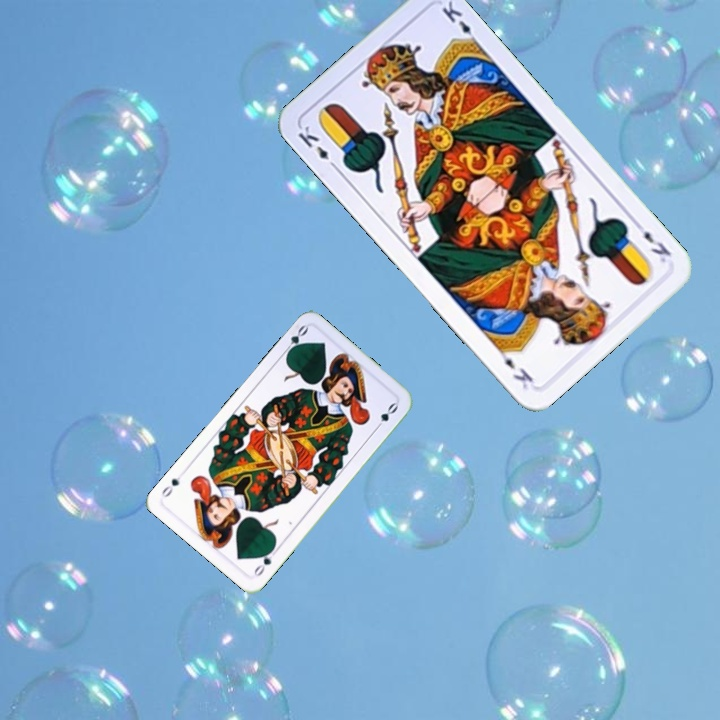EK: (294, 121, 341, 173), (629, 216, 674, 265)
GO: (279, 321, 311, 358), (250, 543, 281, 579)
